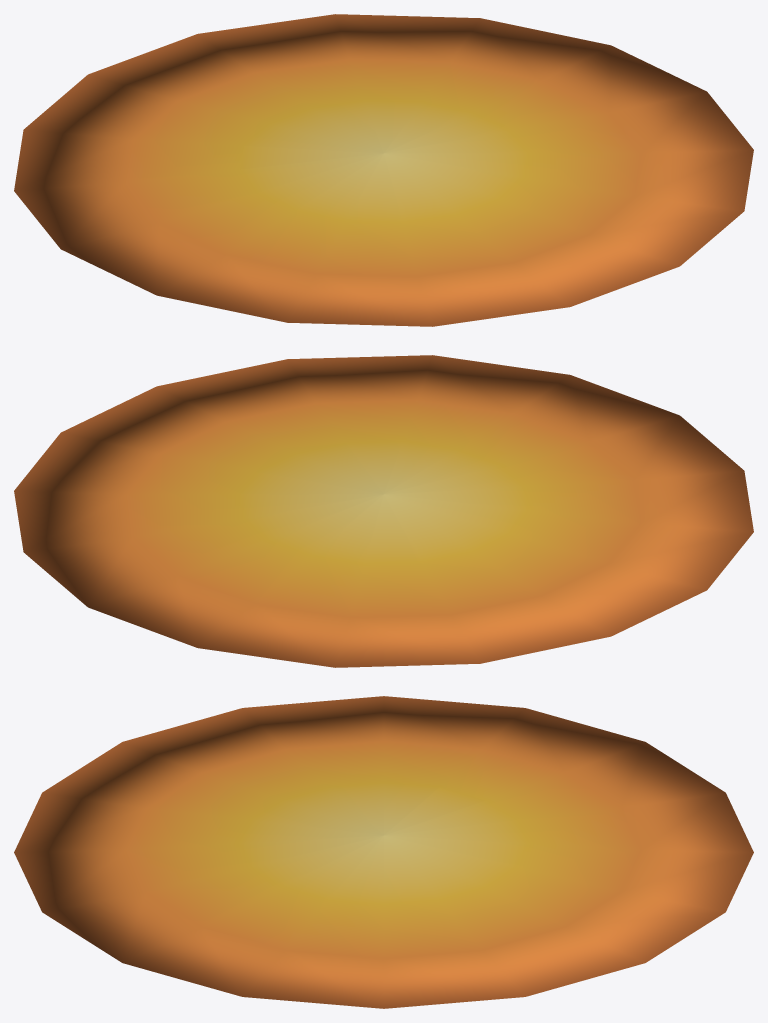
3 views of the same model, one above another, from view 1: azimuth 30°, elevation 25°; view 2: azimuth 150°, elevation 25°; view 3: azimuth 270°, elevation 25° (orthographic).
Visible parts, largest first — view 1: starcloud103; view 2: starcloud103; view 3: starcloud103.
Boxes of the visible parts, box(x1,y1,x2,y2) form: starcloud103: box(14, 14, 753, 326); starcloud103: box(14, 355, 753, 667); starcloud103: box(14, 696, 753, 1008).
Size of the model in its own units: 0.5 by 0.0229 by 0.4999.
